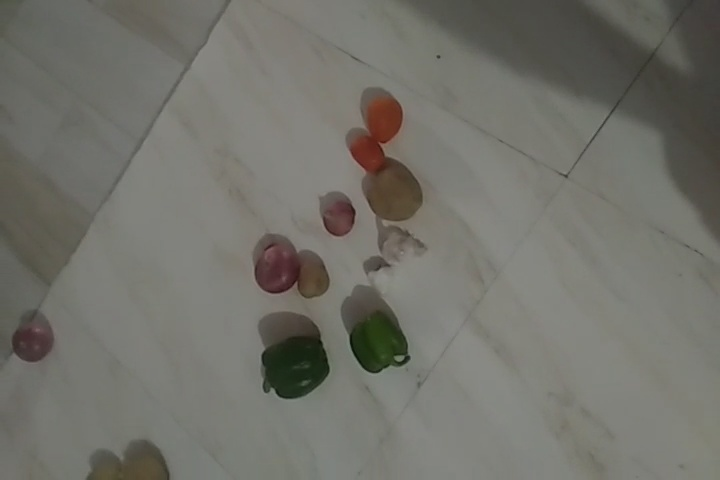capsicum: (253, 331, 320, 396), (347, 314, 409, 379)
garlic: (379, 228, 423, 268), (363, 265, 398, 291)
onion: (249, 240, 296, 291), (16, 323, 56, 360), (319, 205, 355, 241)
potato: (364, 165, 425, 229), (127, 452, 175, 480), (297, 262, 326, 298), (84, 466, 119, 479)
tomato: (365, 91, 398, 139), (348, 129, 384, 170)
